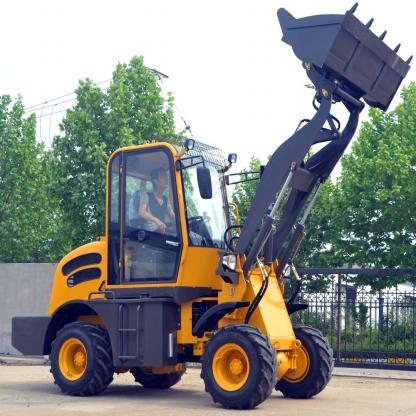bull_dozer/loader/grader: (40, 6, 401, 394)
